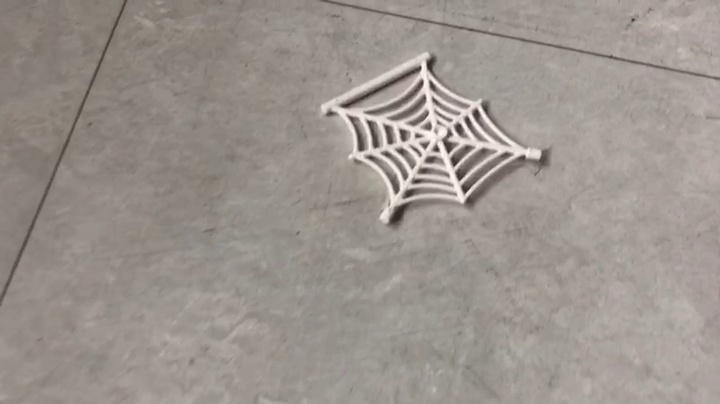web: (320, 48, 551, 228)
